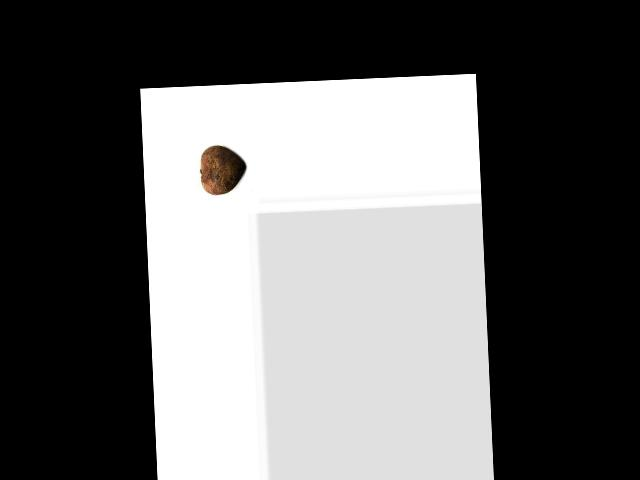beet: (199, 144, 246, 196)
